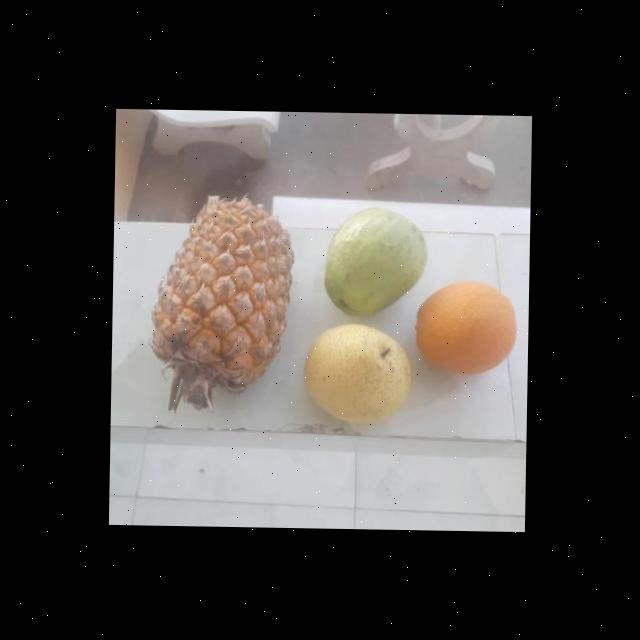guava: (321, 208, 426, 314)
orange: (410, 280, 519, 374)
pear: (298, 322, 412, 422)
pineapple: (148, 202, 290, 400)
